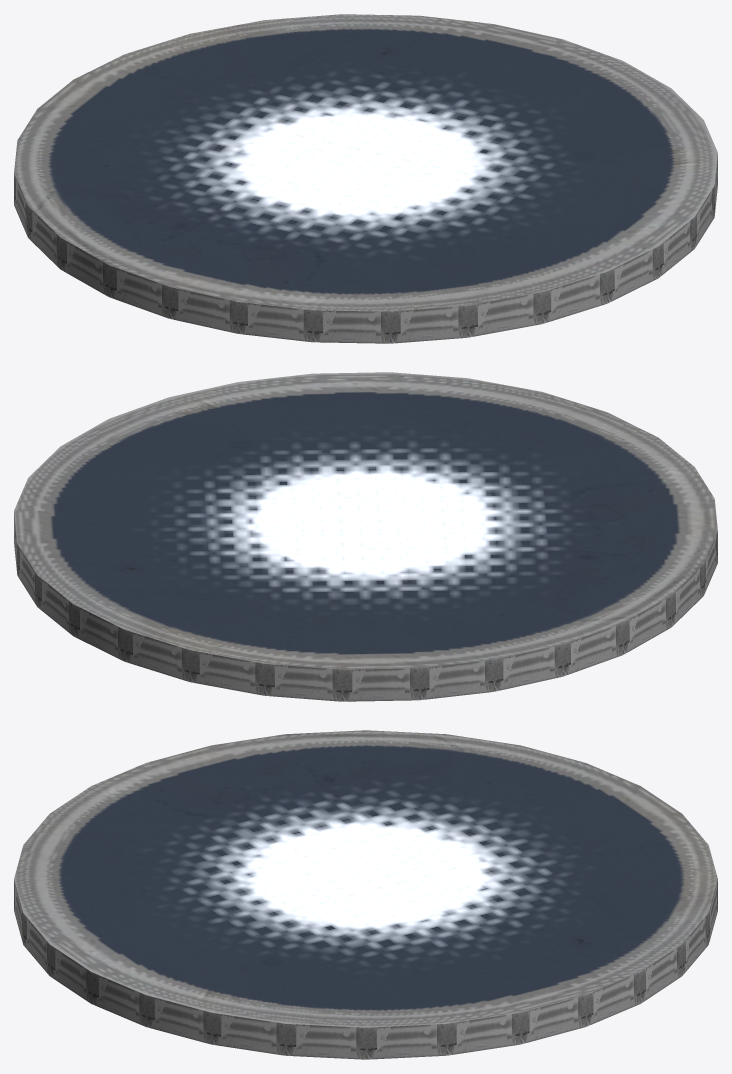
File: SM_PillarsDecoLOn.fbx
The picture shows the model from 3 angles, top to bottom: view 1: azimuth 30°, elevation 25°; view 2: azimuth 150°, elevation 25°; view 3: azimuth 270°, elevation 25°; orthographic projection.
Visible parts, largest first — view 1: SM_PillarsDecoLOn_LOD0; view 2: SM_PillarsDecoLOn_LOD0; view 3: SM_PillarsDecoLOn_LOD0.
Boxes of the visible parts, <box> form: SM_PillarsDecoLOn_LOD0: <box>14,14,717,343</box>; SM_PillarsDecoLOn_LOD0: <box>14,372,717,701</box>; SM_PillarsDecoLOn_LOD0: <box>14,730,717,1059</box>.
Bounding box in the file's own units: 40.01 × 40.01 × 2.
Materials: 1 (1 with a texture image).
